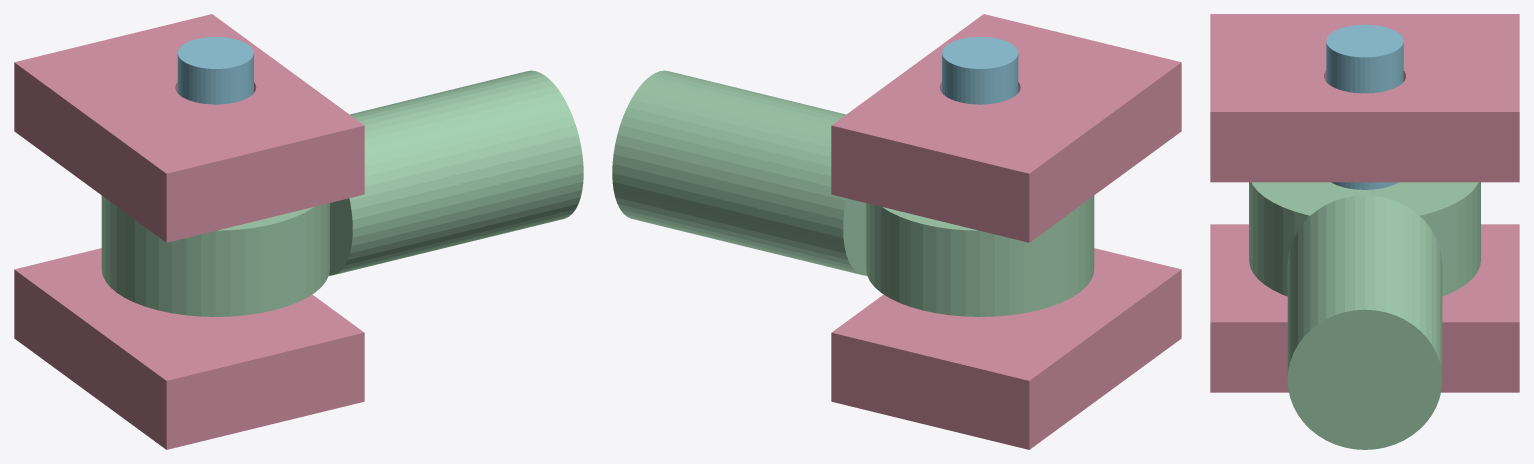
Rendered from clevis_demo.glb.
3 renders of one model, left to right at view 1: azimuth 30°, elevation 25°; view 2: azimuth 150°, elevation 25°; view 3: azimuth 270°, elevation 25°, orthographic.
Parts seen in each view (by area): view 1: fork, eye, pin; view 2: fork, eye, pin; view 3: fork, eye, pin.
Part boxes in pixels (box(x1,y1,x2,y2)): fork: box(14, 14, 364, 449); eye: box(101, 70, 583, 316); pin: box(177, 37, 253, 104); fork: box(831, 14, 1181, 449); eye: box(612, 70, 1094, 316); pin: box(942, 37, 1018, 104); fork: box(1210, 14, 1519, 392); eye: box(1249, 182, 1480, 449); pin: box(1326, 24, 1403, 189).
Size of the model in its own units: 27.6 by 20 by 16.
